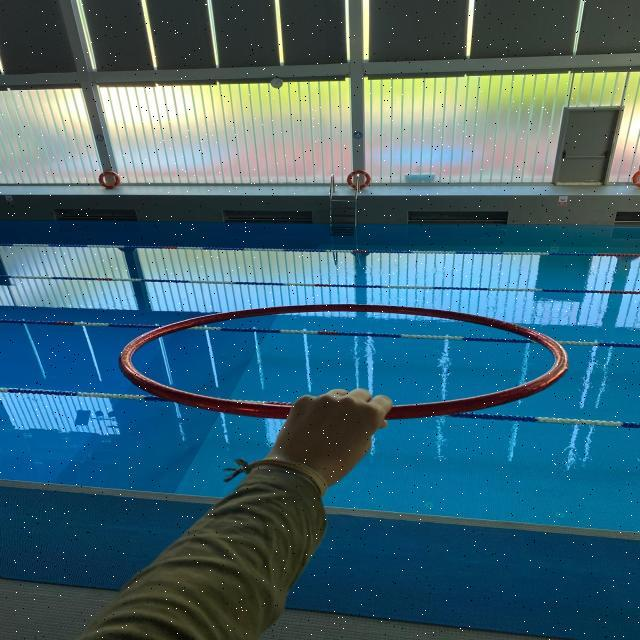Circle: (119, 300, 570, 422)
